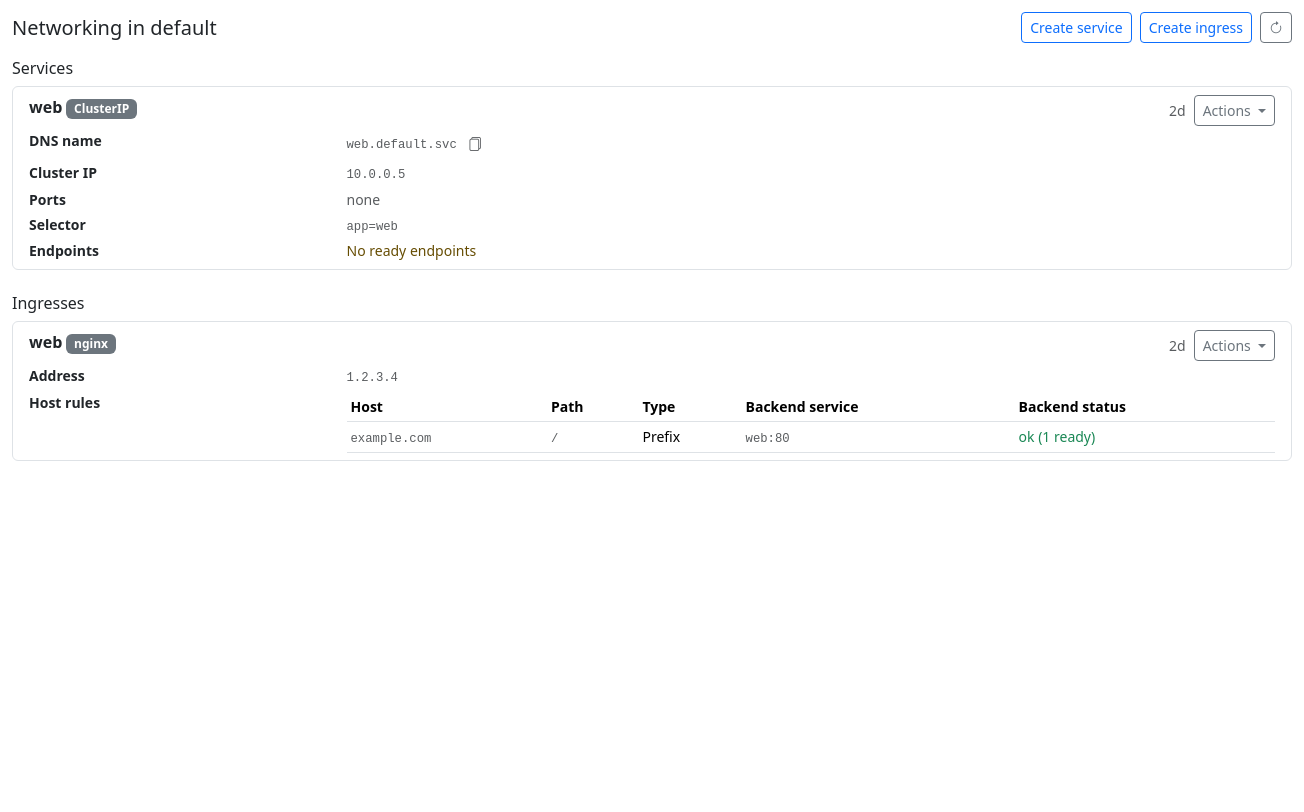
NetworkingView — create/edit ingress › opens the edit panel from the row Actions dropdown
Click the button "Actions" in the row of "nginx" at (1234, 346), box [1194,330,1275,361]
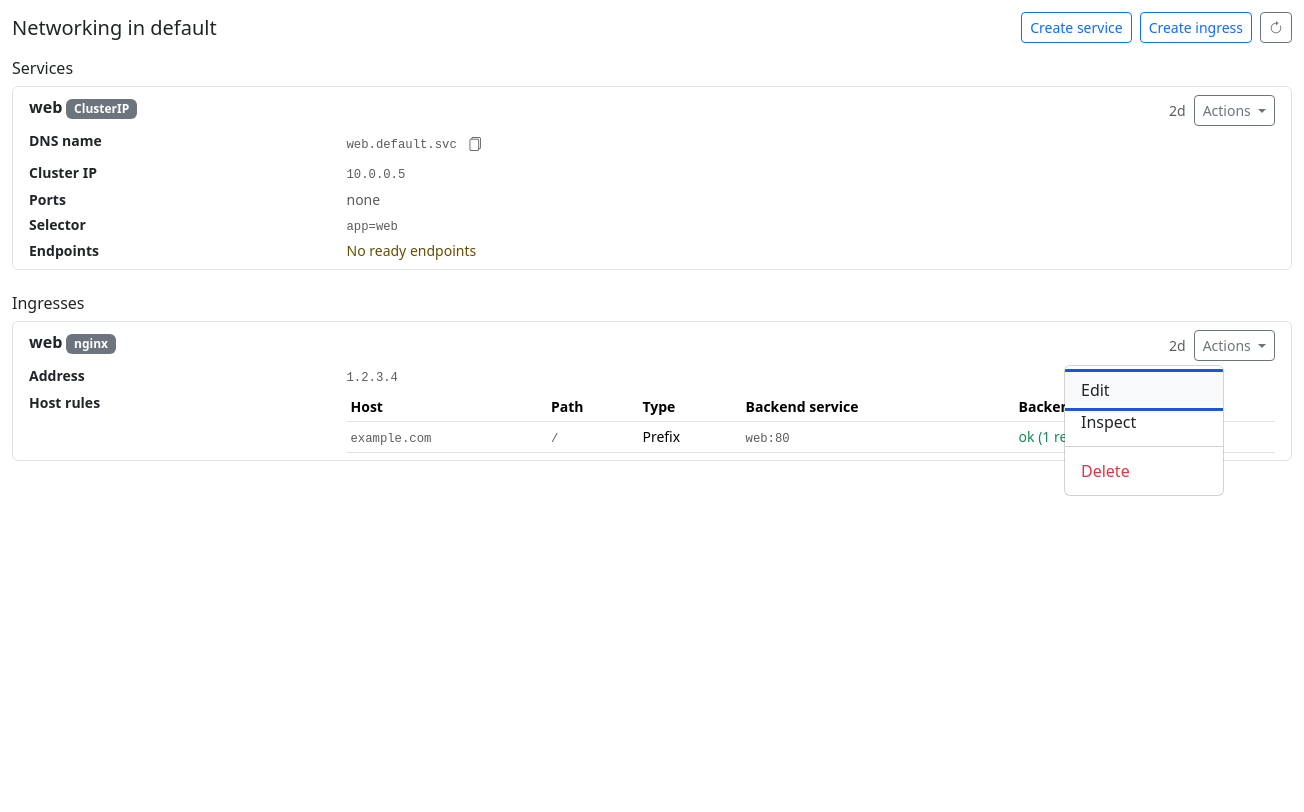
Click the menu item "Edit" at (1144, 390), box [1065,374,1223,406]
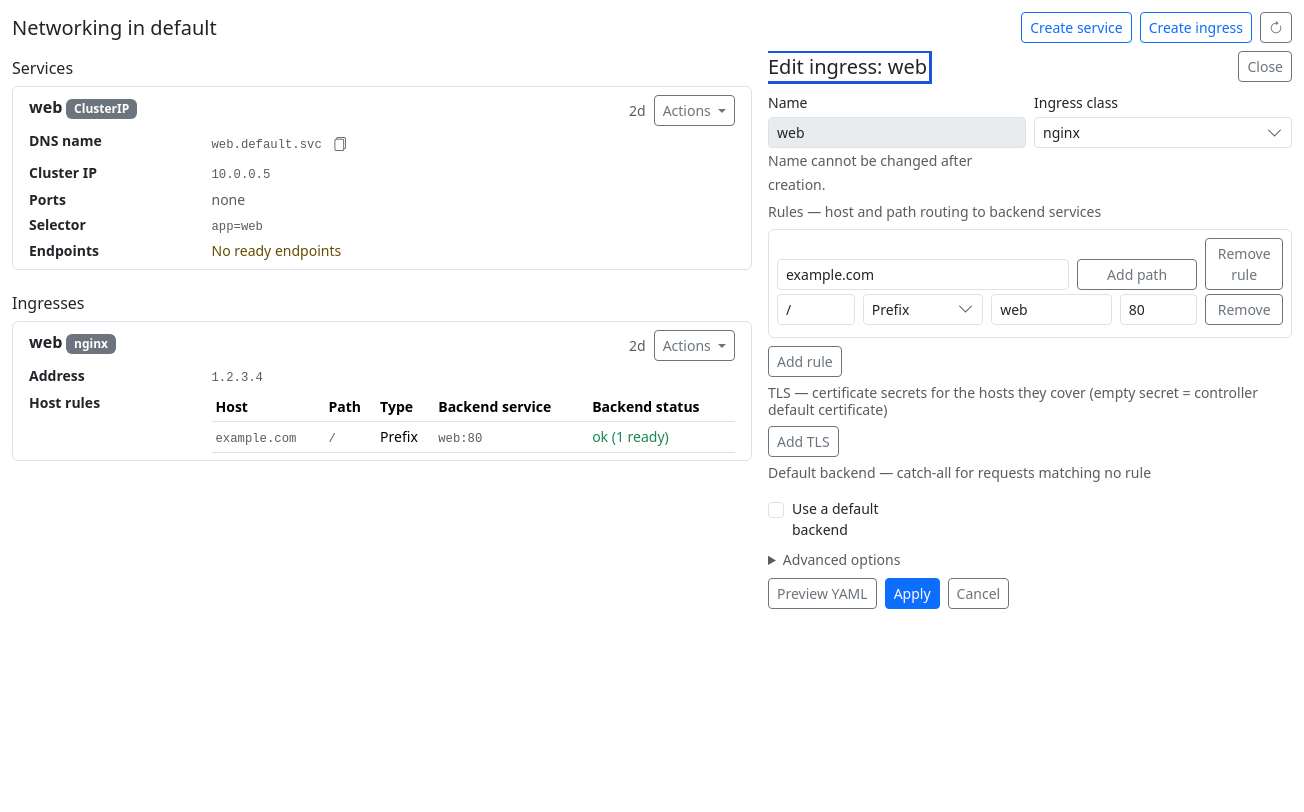
Expected: the text "Edit ingress: web" is shown, [768,54,927,78]
